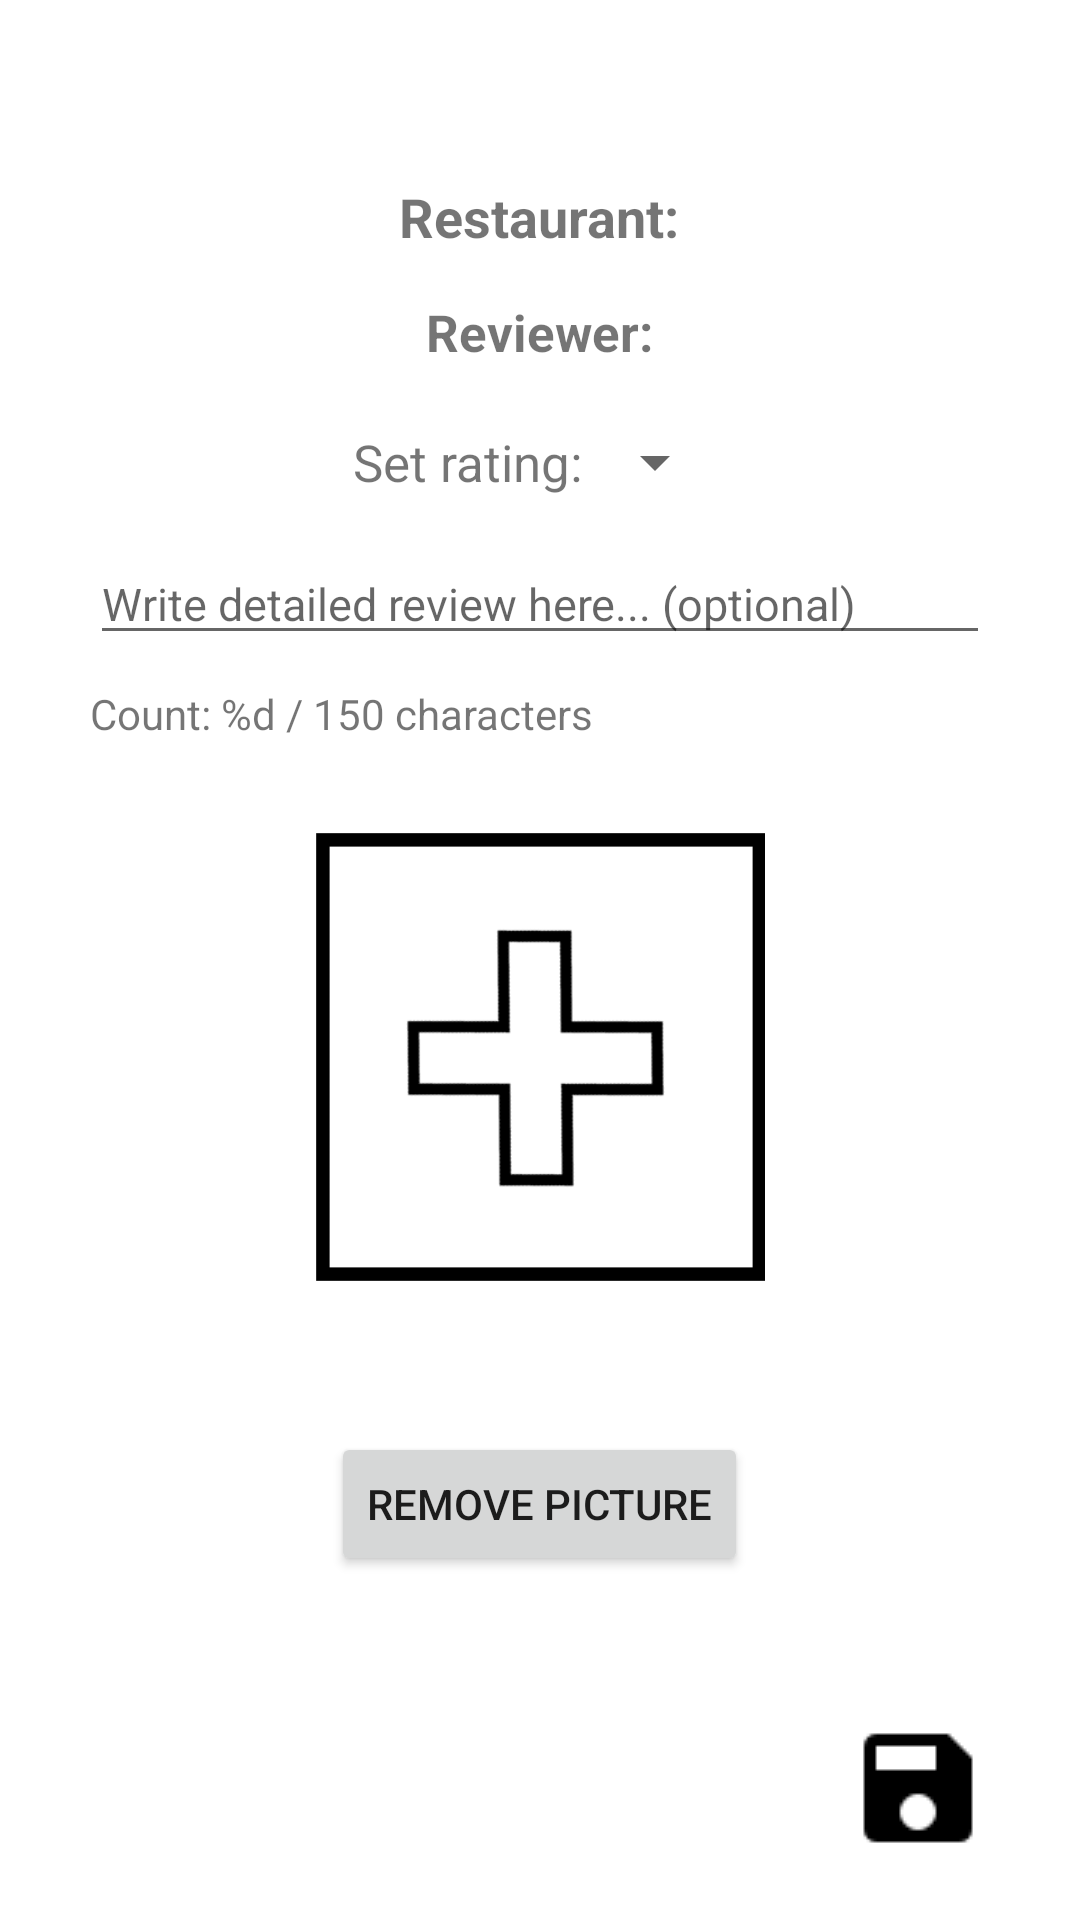

Named icons in this screenshot (1080px×1920px) and their centers, point (x, y):
save: point (918, 1788)
